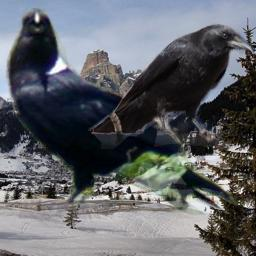Crow: (4, 8, 238, 219), (85, 22, 254, 149)
